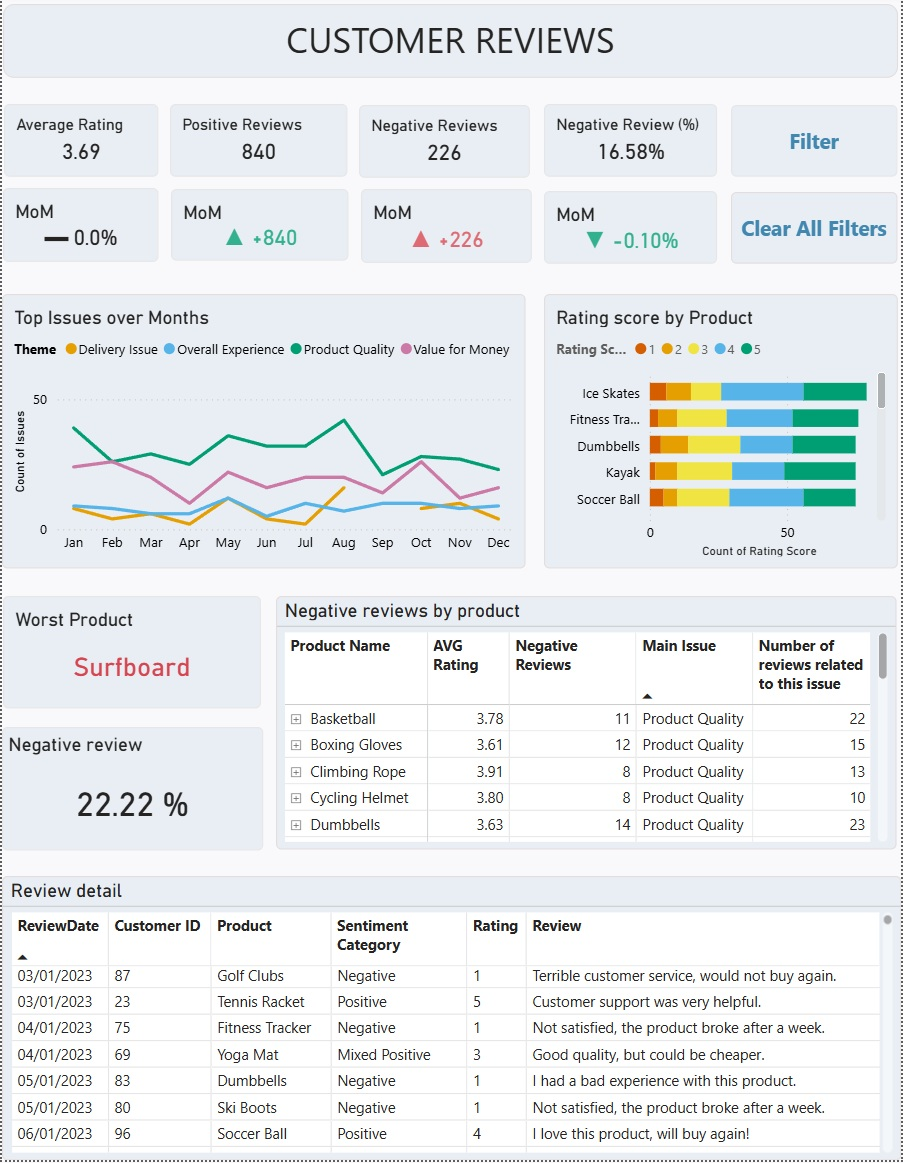

The dashboard page shown, as its layout file describes it:
{"tool":"powerbi","page":{"name":"Page 3","canvas":[816,1056],"ordinal":0},"visuals":[{"type":"barChart","title":"Rating score by Product","fields":{"Category":["products.ProductName"],"Y":["CountNonNull(fact_customer_review_with_sentiment.Rating)"],"Series":["fact_customer_review_with_sentiment.Rating"]},"box":[491.7,270.4,321.2,249.5],"z":0},{"type":"card","title":"Worst Product","fields":{"Values":["Calculations for Customer Revíews.Worst Product (by complaint %)"]},"box":[0.9,544.3,234.1,101.6],"z":0,"group":"g2"},{"type":"card","title":"Negative review","fields":{"Values":["Calculations for Customer Revíews.Worst Product Complaint %"]},"box":[0,663.2,236.8,111.6],"z":0,"group":"g1"},{"type":"card","title":"Average Rating","fields":{"Values":["Calculations for Customer Revíews.AVG Rating"]},"box":[1.4,98.2,140,66],"z":1000},{"type":"card","title":"MoM","fields":{"Values":["Calculations for Customer Revíews.MoM Negative review % Change (With Symbol)"]},"box":[492,176.7,157.3,66],"z":2000},{"type":"card","title":"MoM","fields":{"Values":["Calculations for Customer Revíews.MoM AVR rating (With Symbol)"]},"box":[0.9,174.1,141.3,66.7],"z":3000},{"type":"card","title":"Negative Review (%)","fields":{"Values":["Calculations for Customer Revíews.Negative Reviews % (2dp Fixed)"]},"box":[491.5,98,157.3,66],"z":4000},{"type":"textbox","box":[0.7,7.3,812,67.3],"z":5000},{"type":"card","title":"Negative Reviews","fields":{"Values":["Calculations for Customer Revíews.Negative Reviews"]},"box":[324.2,98.7,154.7,66],"z":6000},{"type":"card","title":"Positive Reviews","fields":{"Values":["Calculations for Customer Revíews.Positive Reviews"]},"box":[152.7,98.2,160.9,66.4],"z":7000},{"type":"card","title":"MoM","fields":{"Values":["Calculations for Customer Revíews.MoM Negative Change (With Symbol)"]},"box":[325.8,175.3,154.7,67.3],"z":8000},{"type":"card","title":"MoM","fields":{"Values":["Calculations for Customer Revíews.MoM Positive Change (With Symbol)"]},"box":[152.9,175.3,161.3,64.7],"z":9000},{"type":"tableEx","title":"Review detail","fields":{"Values":["fact_customer_review_with_sentiment.ReviewDate","fact_customer_review_with_sentiment.CustomerID","products.ProductName","fact_customer_review_with_sentiment.SentimentCategory","fact_customer_review_with_sentiment.Rating","fact_customer_review_with_sentiment.ReviewText"]},"box":[0,798.4,815.6,257.6],"z":10000},{"type":"lineChart","title":"Top Issues over Months","fields":{"Category":["Date_Table.MonthNameShort"],"Y":["Review Theme.Theme Count"],"Series":["Review Theme.Theme"]},"box":[0,270.4,475.4,249.5],"z":11000},{"type":"pivotTable","title":"Negative reviews by product","fields":{"Rows":["products.ProductName","Date_Table.Year","Date_Table.MonthNameShort"],"Values":["Calculations for Customer Revíews.AVG Rating","Calculations for Customer Revíews.Negative Reviews","Review Theme.Top Issue Theme","Review Theme.Top Issue Count"]},"box":[248.6,544.3,563.4,230.4],"z":12000},{"type":"actionButton","box":[661.4,98.9,150.6,65.3],"z":14000},{"type":"actionButton","box":[661.4,177.8,150.6,65.3],"z":15000},{"type":"group","id":"g1","title":"Group 2","box":[0,663.2,236.8,111.6],"z":16000},{"type":"group","id":"g2","title":"Group 2","box":[0.9,544.3,234.1,101.6],"z":17000}]}

Visuals, with their boxes in screenshot pixels (x1, y1, x2, y2), scaled from the page's 816x1056 canvas onto the 903x1163 screenshot:
"Rating score by Product" barChart: left=544, top=298, right=900, bottom=573
"Worst Product" card: left=1, top=599, right=260, bottom=711
"Negative review" card: left=0, top=730, right=262, bottom=853
"Average Rating" card: left=2, top=108, right=156, bottom=181
"MoM" card: left=544, top=195, right=719, bottom=267
"MoM" card: left=1, top=192, right=157, bottom=265
"Negative Review (%)" card: left=544, top=108, right=718, bottom=181
textbox: left=1, top=8, right=899, bottom=82
"Negative Reviews" card: left=359, top=109, right=530, bottom=181
"Positive Reviews" card: left=169, top=108, right=347, bottom=181
"MoM" card: left=361, top=193, right=532, bottom=267
"MoM" card: left=169, top=193, right=348, bottom=264
"Review detail" tableEx: left=0, top=879, right=902, bottom=1162
"Top Issues over Months" lineChart: left=0, top=298, right=526, bottom=573
"Negative reviews by product" pivotTable: left=275, top=599, right=899, bottom=853
actionButton: left=732, top=109, right=899, bottom=181
actionButton: left=732, top=196, right=899, bottom=268
"Group 2" group: left=0, top=730, right=262, bottom=853
"Group 2" group: left=1, top=599, right=260, bottom=711
